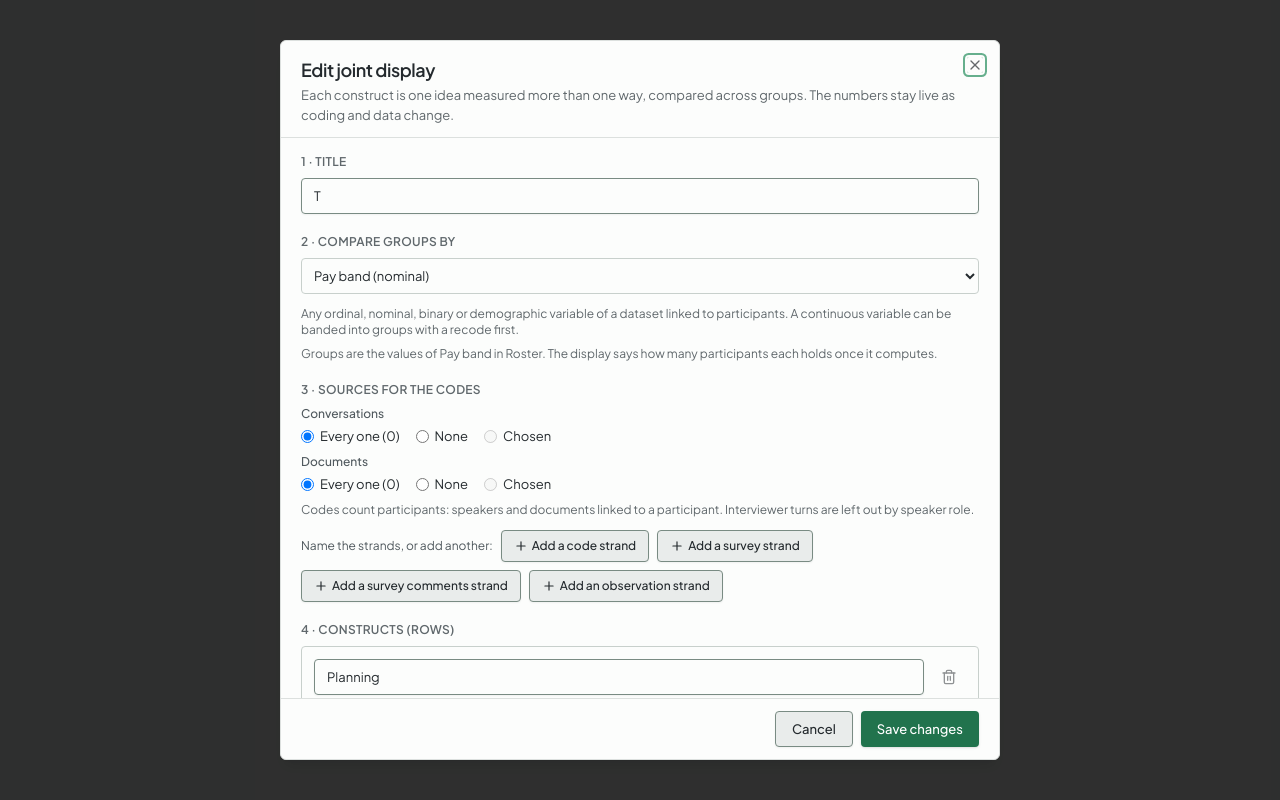
it: #1688 (D370) — the ask after a kept regroup names the groups, never a guessed variable › a second change in one edit names the groups again — never the unsaved value it leaves
This screenshot has width=1280, height=800.
Select "Region (nominal)" in the dropdown named "Variable that forms the groups" at (640, 276), box top-left (301, 258), bottom-right (979, 294)
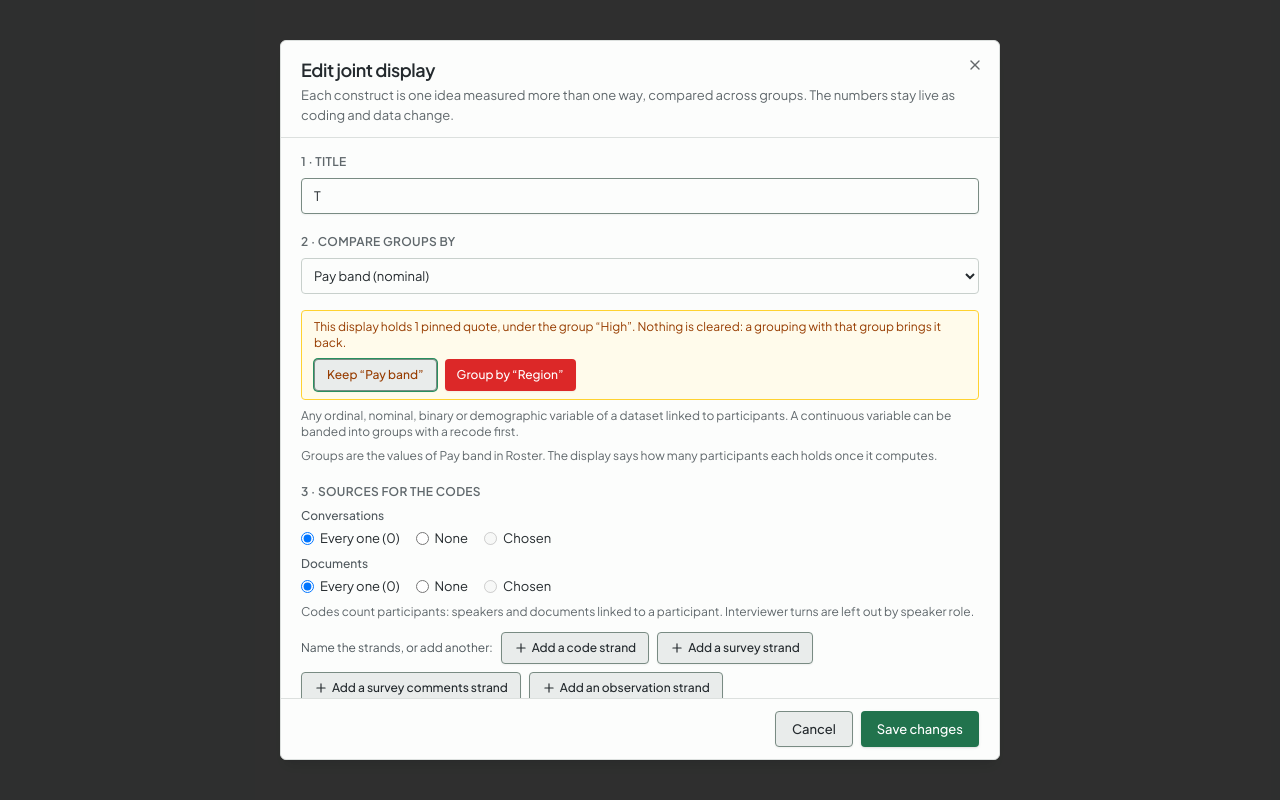
Click the button "Group by “Region”" at (510, 375), box top-left (445, 359), bottom-right (576, 391)
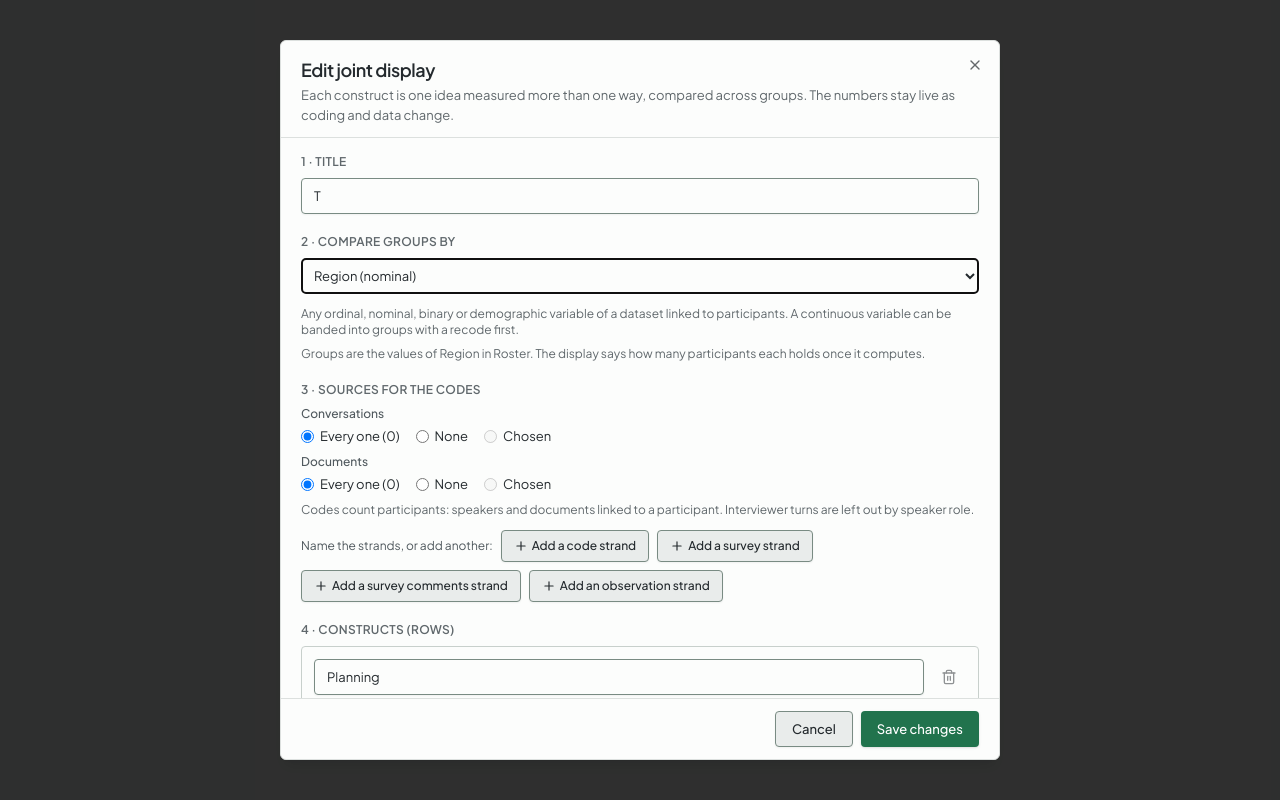
Select "Gain group (nominal)" in the dropdown named "Variable that forms the groups" at (640, 276), box top-left (301, 258), bottom-right (979, 294)
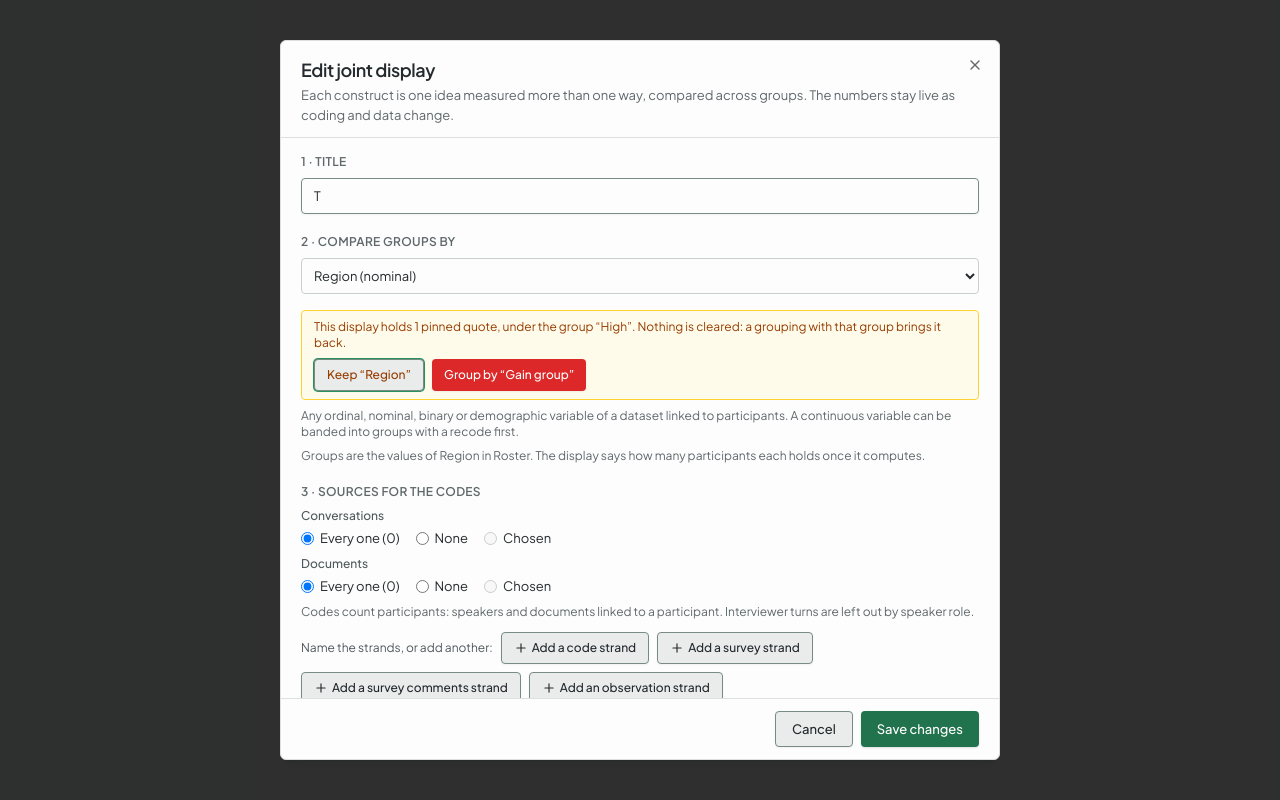
Expected: the button "Group by “Gain group”" is shown, top-left (432, 359), bottom-right (586, 391)
